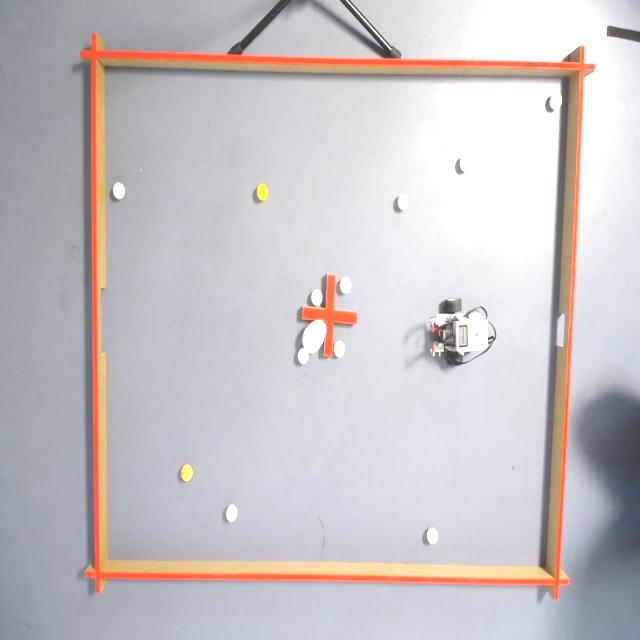boundaries: (543, 41, 597, 605), (75, 28, 598, 82), (82, 553, 570, 602), (77, 26, 111, 596)
cross: (300, 274, 358, 359)
egg: (304, 322, 328, 356)
large_goal: (80, 268, 116, 381)
orange_ball: (180, 459, 196, 484), (253, 183, 269, 204)
robot: (425, 296, 499, 372)
small_goal: (544, 295, 580, 368)
white_ball: (222, 500, 240, 524), (548, 92, 564, 116), (457, 150, 473, 174), (395, 190, 410, 215), (112, 181, 127, 202), (311, 284, 323, 308), (340, 275, 353, 297), (425, 526, 438, 548), (297, 343, 309, 363), (334, 340, 346, 360)
